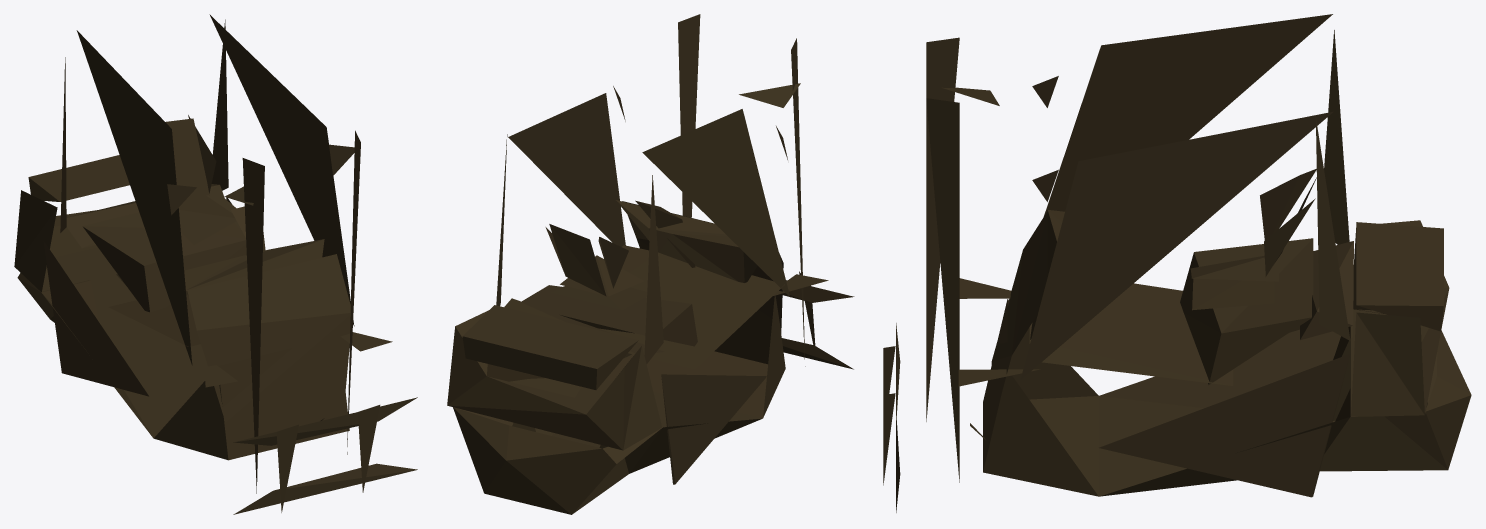
File: forklift.lod2.glb
3 renders of one model, left to right at view 1: azimuth 30°, elevation 25°; view 2: azimuth 150°, elevation 25°; view 3: azimuth 270°, elevation 25°, orthographic. The views are drawn at different scales.
Parts seen in each view (by area): view 1: Loader_car_Loader_car_Material_0; view 2: Loader_car_Loader_car_Material_0; view 3: Loader_car_Loader_car_Material_0.
Boxes of the visible parts, x1,y1,x2,y2 form: Loader_car_Loader_car_Material_0: (14,14,417,514); Loader_car_Loader_car_Material_0: (447,14,854,514); Loader_car_Loader_car_Material_0: (883,14,1471,512).
Size of the model in its own units: 0.991 by 1.77 by 2.26.
